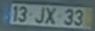1: (12, 4, 19, 22)
3: (63, 8, 74, 26), (17, 5, 28, 23), (73, 8, 84, 26)
J: (33, 6, 45, 24)
X: (43, 6, 57, 25)
